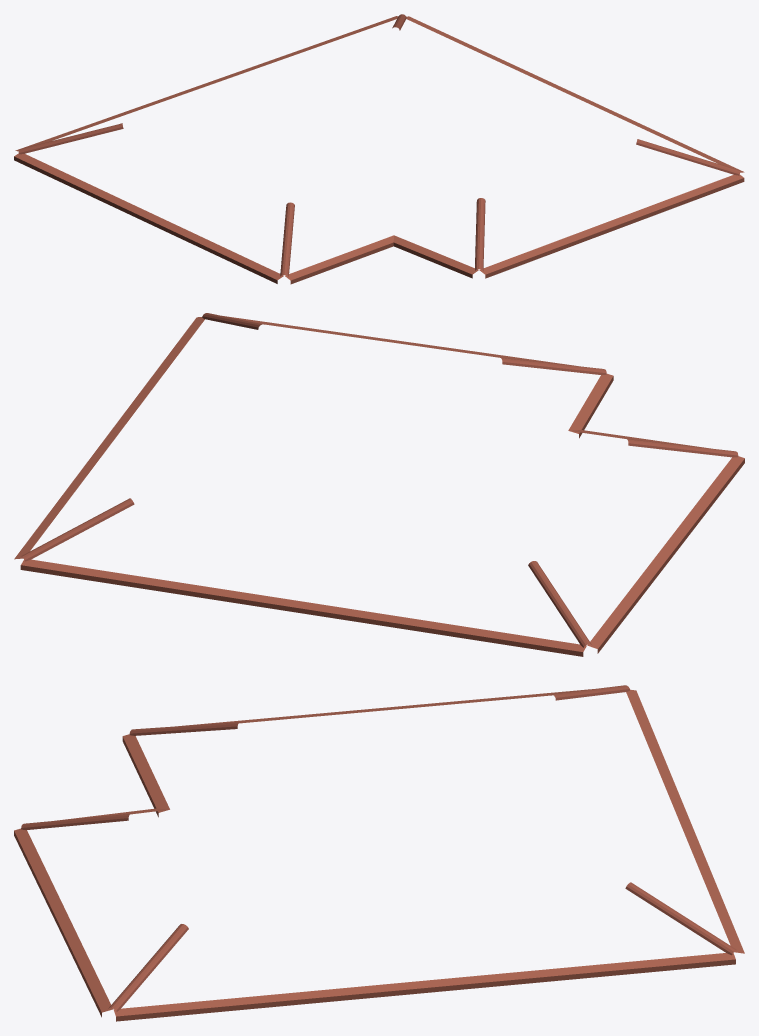
3 renders of one model, top to bottom at view 1: azimuth 30°, elevation 25°; view 2: azimuth 150°, elevation 25°; view 3: azimuth 270°, elevation 25°, orthographic. The views are drawn at different scales.
Visible parts, largest first — view 1: detail; view 2: detail; view 3: detail.
Boxes of the visible parts, x1,y1,x2,y2 form: detail: (14, 14, 744, 284); detail: (14, 313, 744, 656); detail: (14, 685, 744, 1021).
Size of the model in its own units: 21.16 by 1.53 by 19.8.
